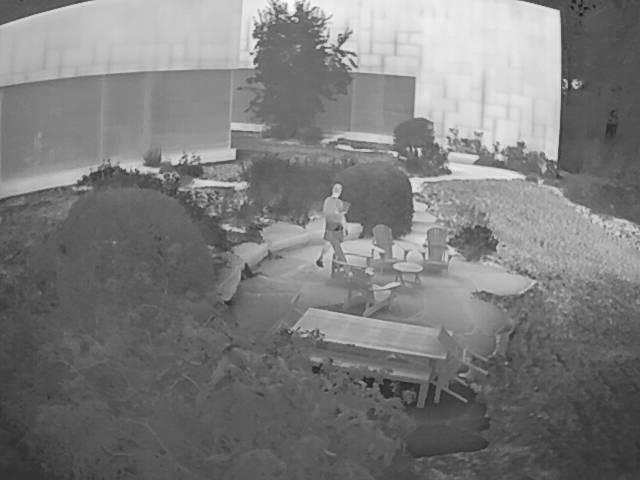person: (314, 183, 348, 273)
